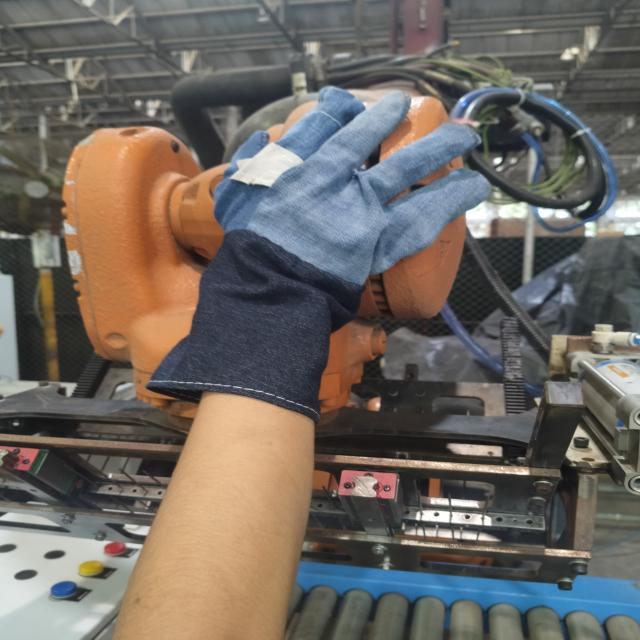Gloves-Detection: (184, 82, 482, 402)
